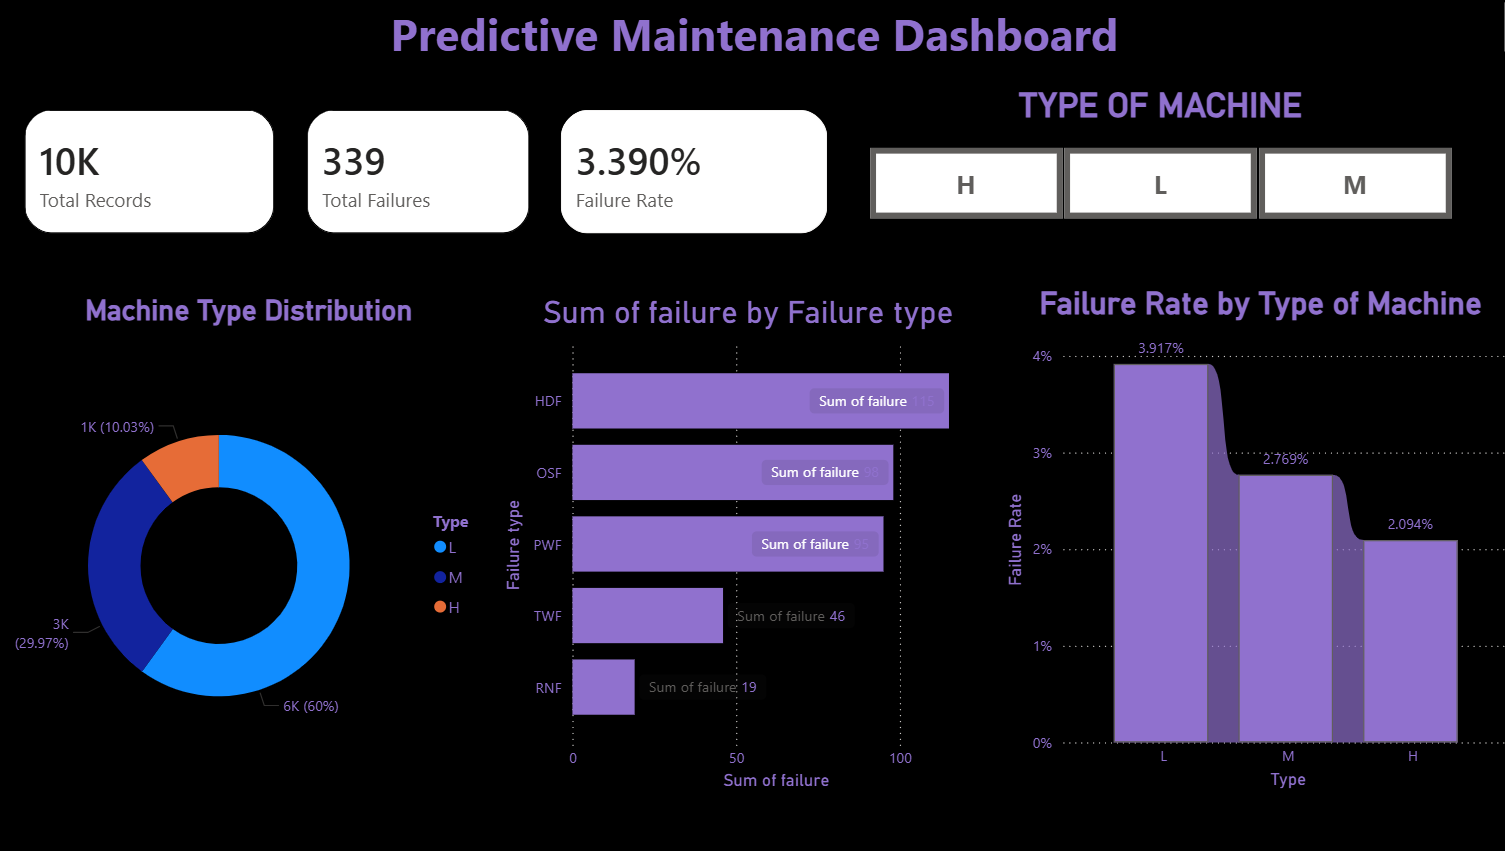

This screenshot's page, from the dashboard's own definition file:
{"tool":"powerbi","page":{"name":"Predictive Maintenance Dashboard","canvas":[1280,720],"ordinal":0},"visuals":[{"type":"cardVisual","fields":{"Data":["ai4i2020.Total Records"]},"box":[11.6,107,245.3,143],"z":0},{"type":"cardVisual","fields":{"Data":["ai4i2020.Total Failures"]},"box":[270.9,107,209.3,143],"z":1000},{"type":"cardVisual","fields":{"Data":["ai4i2020.Failure Rate"]},"box":[510.5,107,184.9,143],"z":2000},{"type":"slicer","title":"TYPE OF MACHINE","fields":{"Values":["ai4i2020.Type"]},"box":[724.4,107,536,143],"z":3000},{"type":"clusteredBarChart","title":"Failure Distribution by Type","fields":{"Y":["Sum(Failure Analysis.Failure)"],"Category":["Failure Analysis.Failure type"]},"box":[441.9,288.4,358.1,375.6],"z":4000},{"type":"textbox","box":[0,30.2,1280.2,54.7],"z":4001},{"type":"columnChart","title":"Failure Rate by Type  of Machine","fields":{"Category":["ai4i2020.Type"],"Y":["ai4i2020.Failure Rate"]},"box":[841.9,288.4,407,375.6],"z":4002},{"type":"donutChart","title":"Machine Type Distribution","fields":{"Category":["ai4i2020.Type"],"Y":["ai4i2020.Total Records"]},"box":[11.6,288.4,397.7,320.9],"z":4003}]}

Visuals, with their boxes in screenshot pixels (x1, y1, x2, y2), scaled from the page's 1280x720 canvas onto the 1505x851 screenshot:
cardVisual - ai4i2020.Total Records: bbox(14, 126, 302, 295)
cardVisual - ai4i2020.Total Failures: bbox(319, 126, 565, 295)
cardVisual - ai4i2020.Failure Rate: bbox(600, 126, 818, 295)
"TYPE OF MACHINE" slicer: bbox(852, 126, 1482, 295)
"Failure Distribution by Type" clusteredBarChart: bbox(520, 341, 941, 785)
textbox: bbox(0, 36, 1504, 100)
"Failure Rate by Type  of Machine" columnChart: bbox(990, 341, 1468, 785)
"Machine Type Distribution" donutChart: bbox(14, 341, 481, 720)
